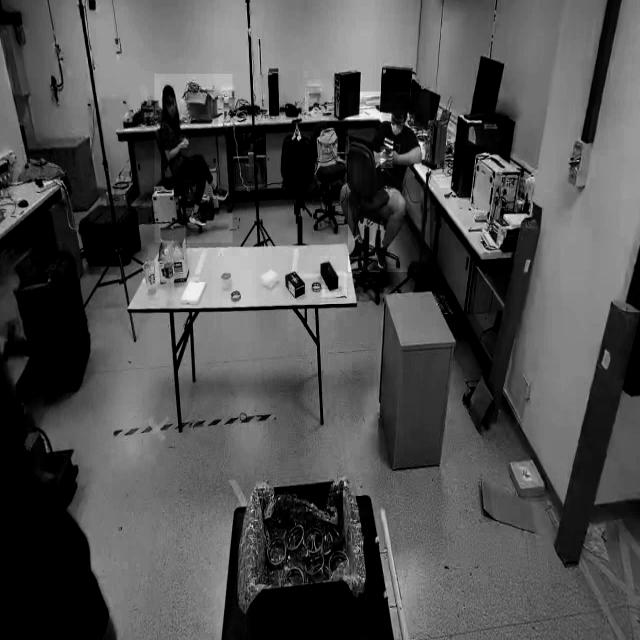face_mask: (391, 110, 404, 142)
face_nomask: (166, 100, 176, 118)
hand_noglove: (381, 147, 393, 169), (386, 149, 398, 167), (177, 140, 189, 150), (182, 134, 190, 145)
head_nohelmet: (392, 95, 408, 110), (162, 85, 174, 95)
person: (348, 91, 430, 273), (155, 74, 233, 244)
shoes: (373, 236, 389, 272), (209, 177, 229, 205), (186, 206, 207, 232), (347, 237, 367, 264)
